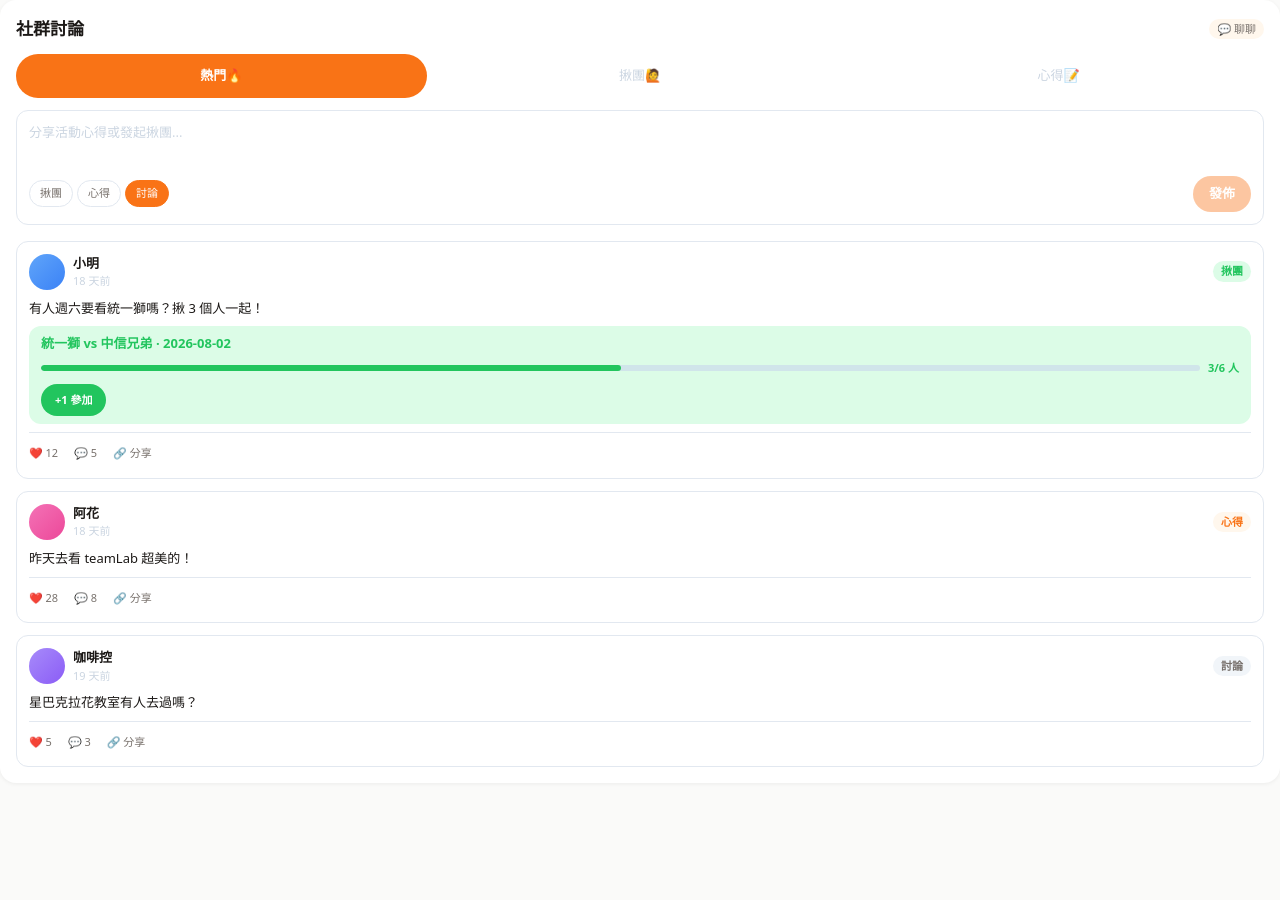
Test: CommunityBoard › Tab 篩選「心得」只顯示心得貼文
Click the button with class "tab-btn" showing "心得📝": (1059, 76) left=853, top=54, right=1264, bottom=98
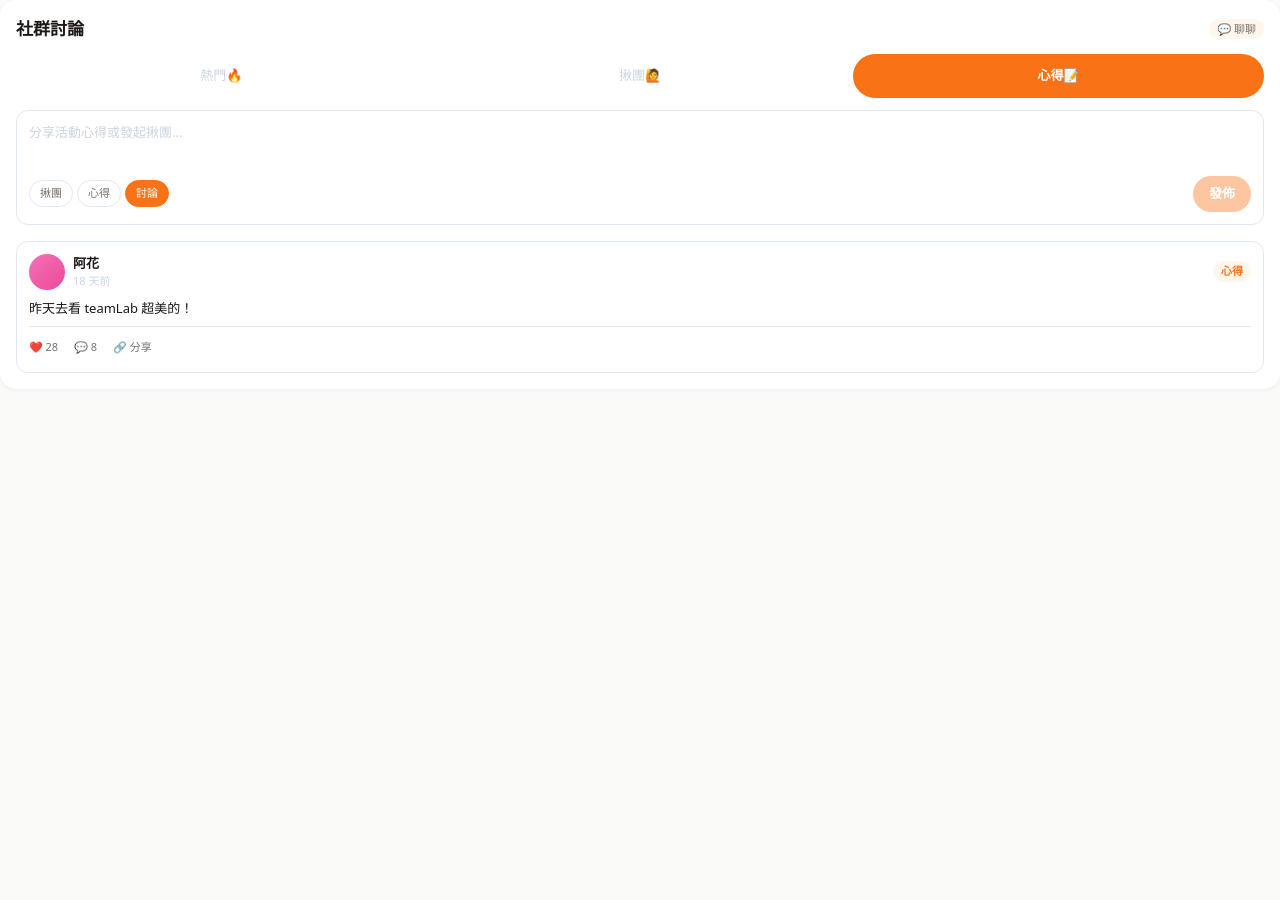
Expected: the text "阿花" is shown, left=73, top=254, right=99, bottom=272
Expected: the text "小明" is gone
